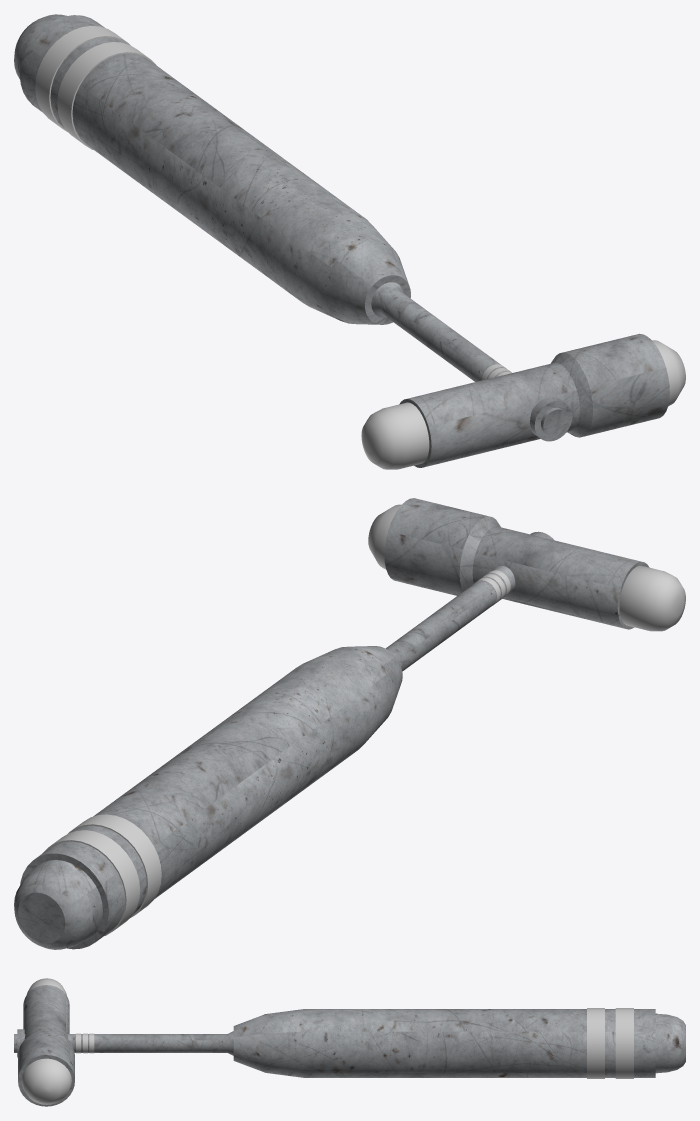
The model's file is hammer1.fbx.
The picture shows the model from 3 angles, top to bottom: view 1: azimuth 30°, elevation 25°; view 2: azimuth 150°, elevation 25°; view 3: azimuth 270°, elevation 25°; orthographic projection. The views are drawn at different scales.
Parts seen in each view (by area): view 1: Cylinder.009, Cylinder.005, Cylinder.007; view 2: Cylinder.009, Cylinder.005, Cylinder.007; view 3: Cylinder.009, Cylinder.005, Cylinder.007.
Part boxes in pixels (box(x1,y1,x2,y2)): Cylinder.009: box(14, 14, 669, 467); Cylinder.005: box(35, 26, 511, 380); Cylinder.007: box(361, 340, 685, 469); Cylinder.009: box(14, 498, 649, 949); Cylinder.005: box(42, 570, 510, 935); Cylinder.007: box(368, 504, 685, 631); Cylinder.009: box(14, 985, 685, 1106); Cylinder.005: box(76, 1008, 633, 1078); Cylinder.007: box(21, 978, 71, 1104).
Bounding box in the file's own units: 238 × 71.94 × 682.
